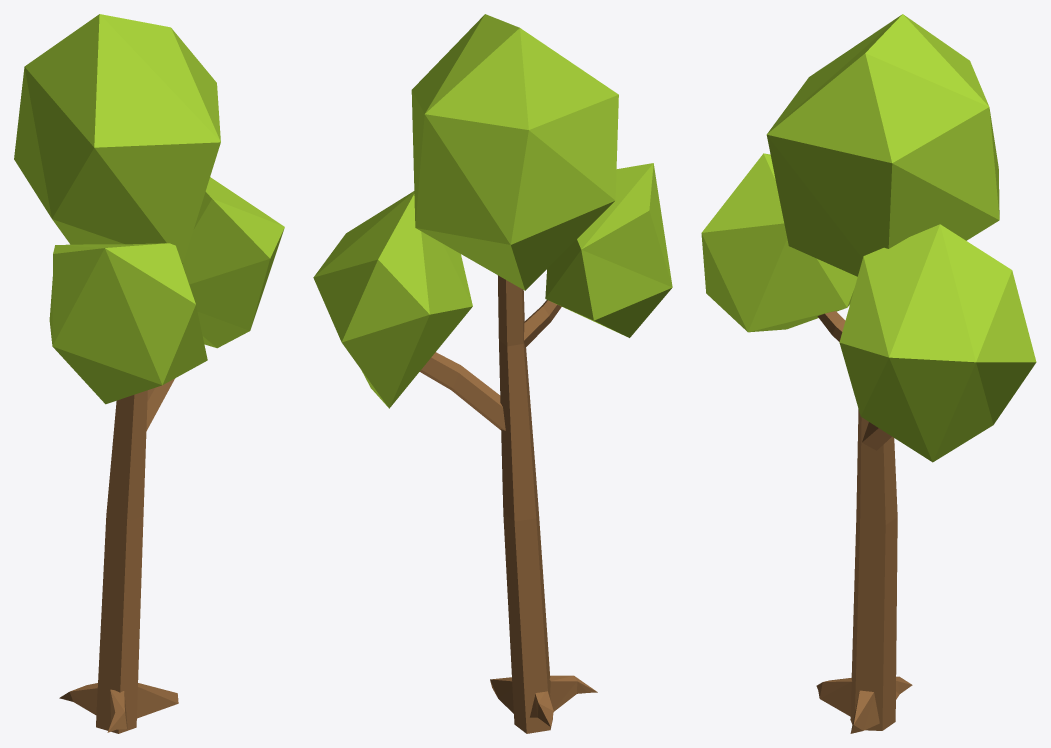
The model's file is Tree_01.fbx.
3 renders of one model, left to right at view 1: azimuth 30°, elevation 25°; view 2: azimuth 150°, elevation 25°; view 3: azimuth 270°, elevation 25°, orthographic.
Visible parts, largest first — view 1: Tree_01; view 2: Tree_01; view 3: Tree_01.
Boxes of the visible parts, left/top/right/bottom form: Tree_01: left=14, top=14, right=284, bottom=733; Tree_01: left=313, top=14, right=672, bottom=733; Tree_01: left=701, top=14, right=1036, bottom=733.
Bounding box in the file's own units: 196 × 472 × 202.
